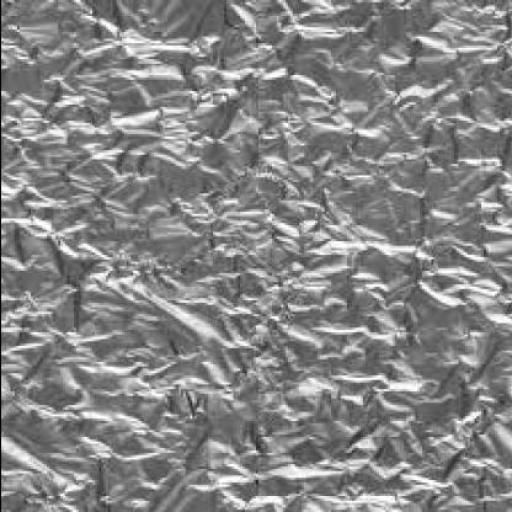metal: (2, 0, 511, 511)
